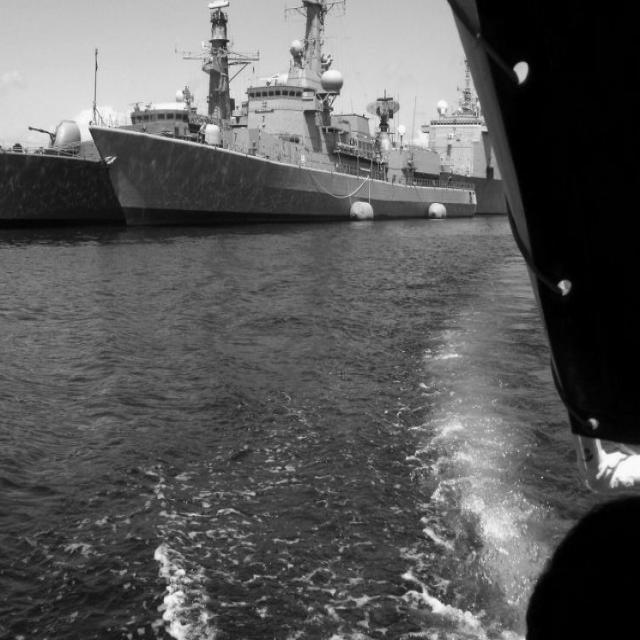Fragata: (87, 1, 486, 237)
